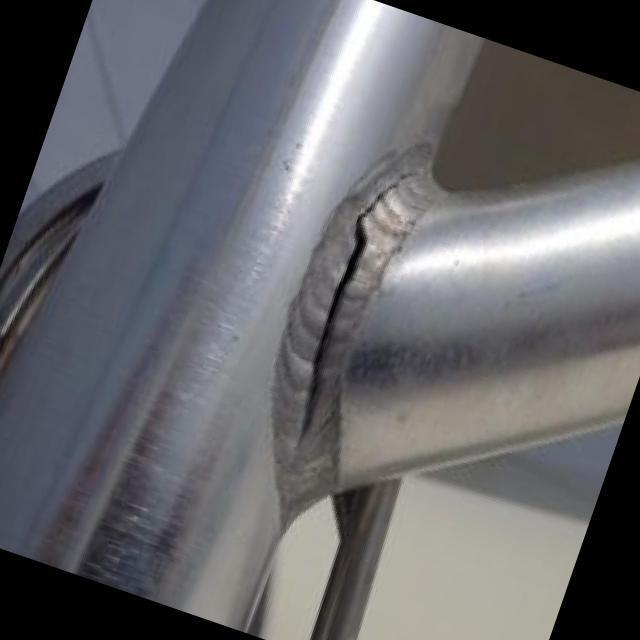defect: (296, 165, 415, 450)
